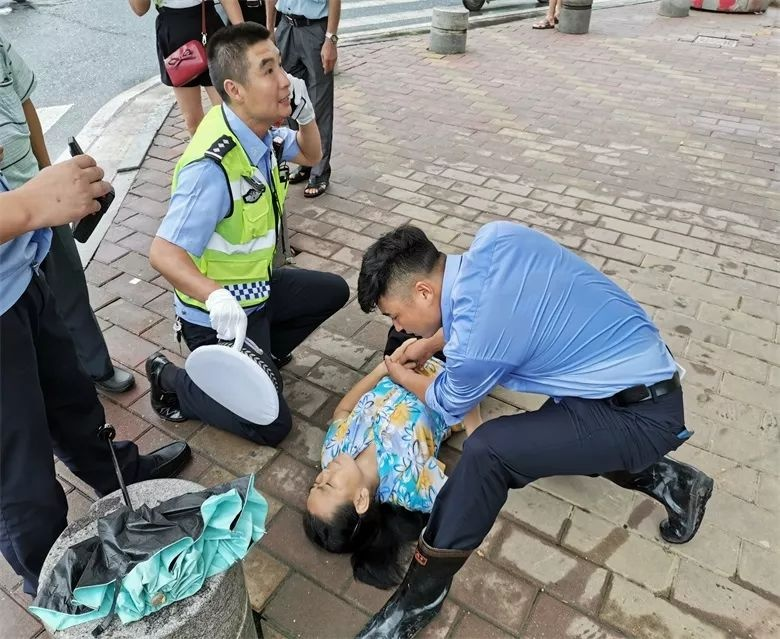falling: (287, 310, 511, 588)
